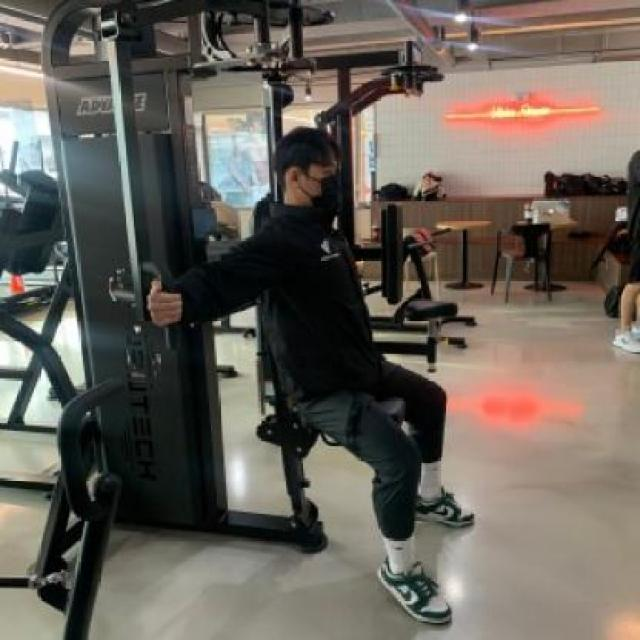chest fly machine: (31, 0, 489, 640)
